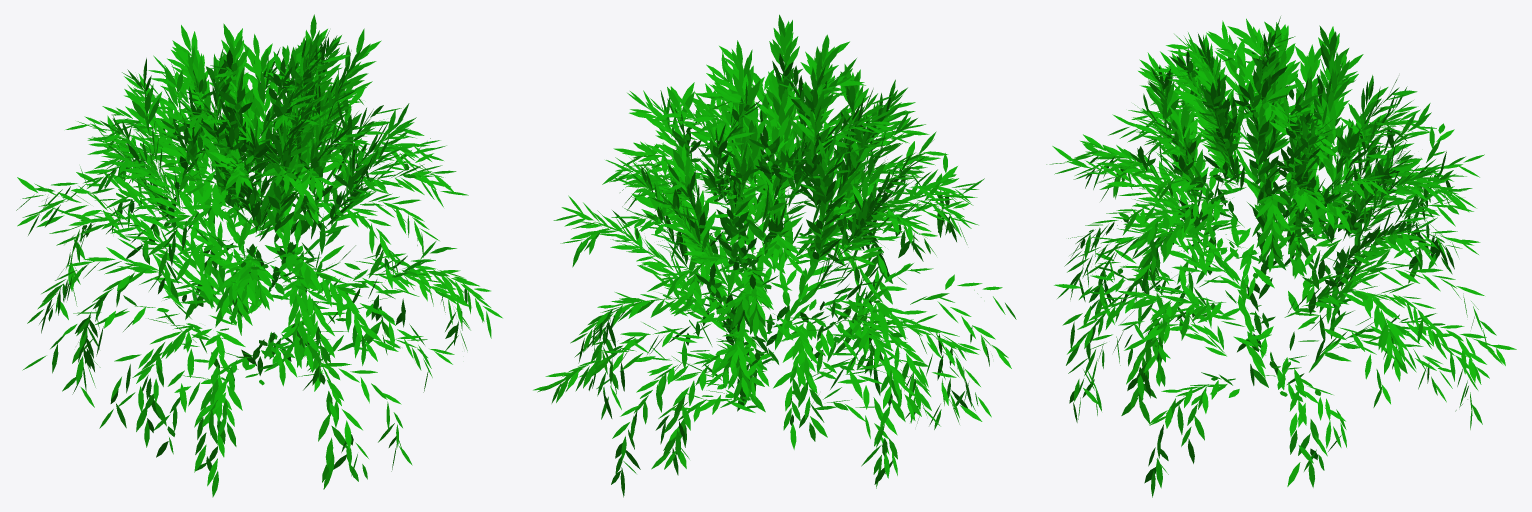
The model's file is forestTreeLeaf.obj.
3 views of the same model, side by side, from view 1: azimuth 30°, elevation 25°; view 2: azimuth 150°, elevation 25°; view 3: azimuth 270°, elevation 25° (orthographic).
Parts seen in each view (by area): view 1: leaves; view 2: leaves; view 3: leaves.
Part boxes in pixels (x1,y1,x2,y2): leaves: (16, 14, 502, 497); leaves: (533, 14, 1016, 497); leaves: (1046, 16, 1516, 497).
Size of the model in its own units: 59.5 by 61.48 by 60.91.
Materials: 1 (1 with a texture image).
